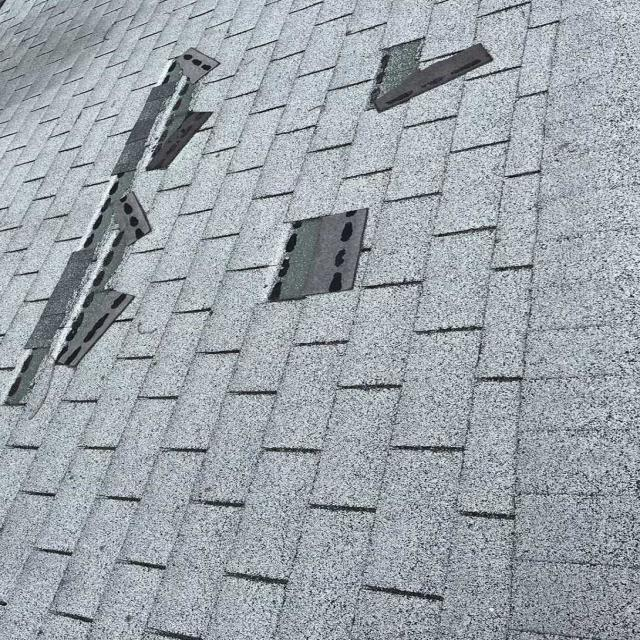damage: (0, 41, 245, 419), (353, 28, 498, 120), (264, 194, 375, 305)
